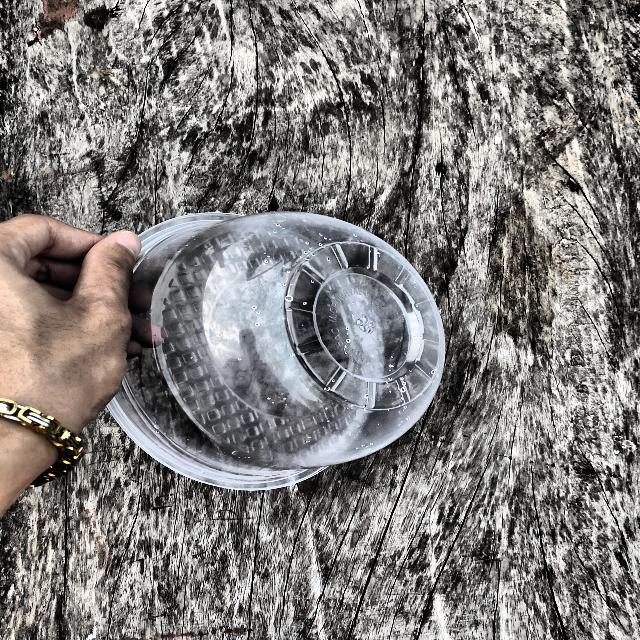plastic container: (66, 213, 472, 524)
